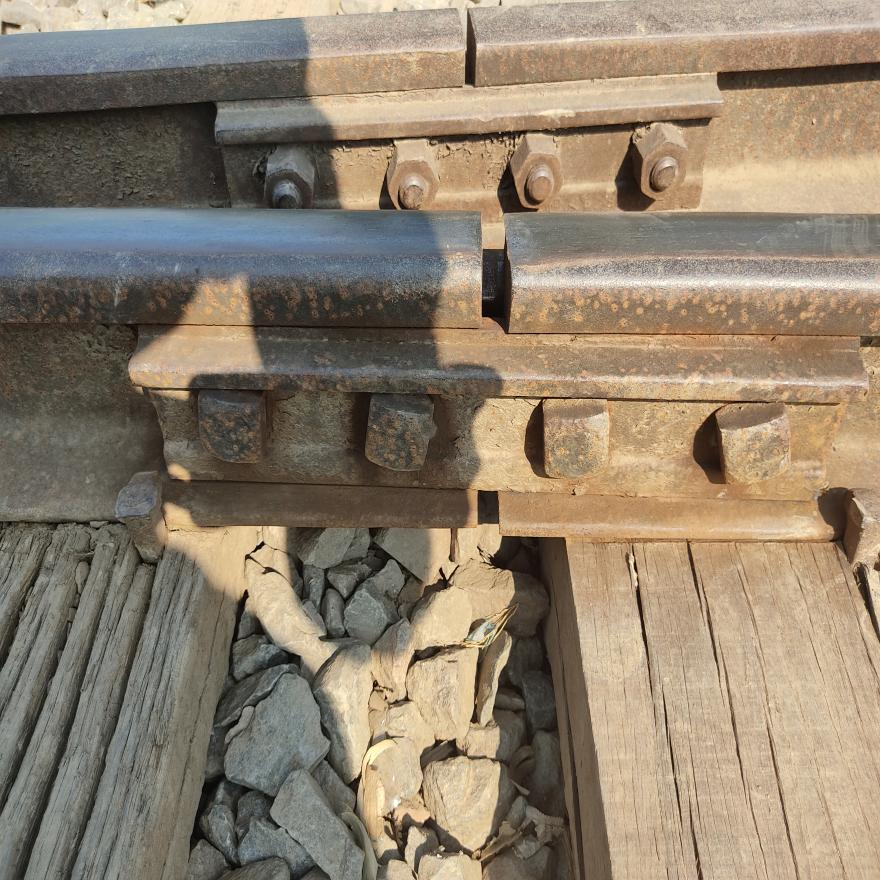railway-gap: (411, 167, 579, 399), (423, 1, 504, 98)
